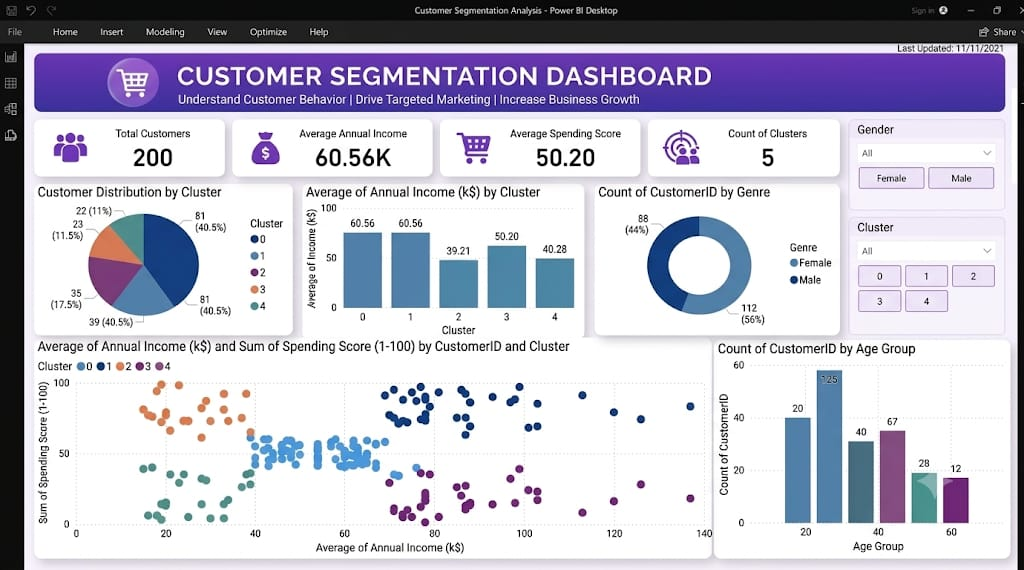

The dashboard page shown, as its layout file describes it:
{"tool":"powerbi","page":{"name":"Page 1","canvas":[1280,720],"ordinal":0},"visuals":[{"type":"cardVisual","fields":{"Data":["CountNonNull(CustomerSegmented.CustomerID)"]},"box":[0,0,260.1,139],"z":0},{"type":"cardVisual","fields":{"Data":["Avg(CustomerSegmented.Annual Income (k$))"]},"box":[258.8,0,246.4,139],"z":1000},{"type":"cardVisual","fields":{"Data":["Avg(CustomerSegmented.Spending Score (1-100))"]},"box":[505.1,0,235.4,139],"z":2000},{"type":"pieChart","fields":{"Category":["CustomerSegmented.Cluster"],"Y":["CountNonNull(CustomerSegmented.CustomerID)"]},"box":[0,139,356.5,279.4],"z":3000},{"type":"columnChart","fields":{"Category":["CustomerSegmented.Cluster"],"Y":["Avg(CustomerSegmented.Annual Income (k$))"]},"box":[356.5,133.5,357.8,291.8],"z":4000},{"type":"scatterChart","fields":{"X":["Avg(CustomerSegmented.Annual Income (k$))"],"Y":["Sum(CustomerSegmented.Spending Score (1-100))"],"Series":["CustomerSegmented.Cluster"],"Category":["CustomerSegmented.CustomerID"]},"box":[0,418.4,893.2,291.8],"z":5000},{"type":"cardVisual","fields":{"Data":["Count(CustomerSegmented.Cluster)"]},"box":[739.1,0,245,139],"z":6000},{"type":"donutChart","fields":{"Category":["CustomerSegmented.Genre"],"Y":["CountNonNull(CustomerSegmented.CustomerID)"]},"box":[740.5,133.5,316.6,291.8],"z":7000},{"type":"clusteredColumnChart","fields":{"Y":["Count(CustomerSegmented.CustomerID)"],"Category":["CustomerSegmented.Age Group"]},"box":[892.4,426.2,387.6,283.2],"z":8000},{"type":"slicer","fields":{"Values":["CustomerSegmented.Age"]},"box":[1011.8,0,268.6,133.3],"z":9000},{"type":"slicer","fields":{"Values":["CustomerSegmented.Genre"]},"box":[1057.4,133.8,222.1,145.6],"z":10000},{"type":"slicer","fields":{"Values":["CustomerSegmented.Cluster"]},"box":[1057.4,279.4,222.1,139.7],"z":11000}]}

Visuals, with their boxes on the page's 1280x720 design canvas (x1, y1, x2, y2). These are canvas units, not pixel positions in the 1024x570 screenshot, which may show the page scaled, cropped or inside an application window:
cardVisual - CountNonNull(CustomerSegmented.CustomerID): 0,0,260,139
cardVisual - Avg(CustomerSegmented.Annual Income (k$)): 259,0,505,139
cardVisual - Avg(CustomerSegmented.Spending Score (1-100)): 505,0,740,139
pieChart - CustomerSegmented.Cluster x CountNonNull(CustomerSegmented.CustomerID): 0,139,356,418
columnChart - CustomerSegmented.Cluster x Avg(CustomerSegmented.Annual Income (k$)): 356,134,714,425
scatterChart - Avg(CustomerSegmented.Annual Income (k$)) x Sum(CustomerSegmented.Spending Score (1-100)): 0,418,893,710
cardVisual - Count(CustomerSegmented.Cluster): 739,0,984,139
donutChart - CustomerSegmented.Genre x CountNonNull(CustomerSegmented.CustomerID): 740,134,1057,425
clusteredColumnChart - Count(CustomerSegmented.CustomerID) x CustomerSegmented.Age Group: 892,426,1280,709
slicer - CustomerSegmented.Age: 1012,0,1280,133
slicer - CustomerSegmented.Genre: 1057,134,1280,279
slicer - CustomerSegmented.Cluster: 1057,279,1280,419
